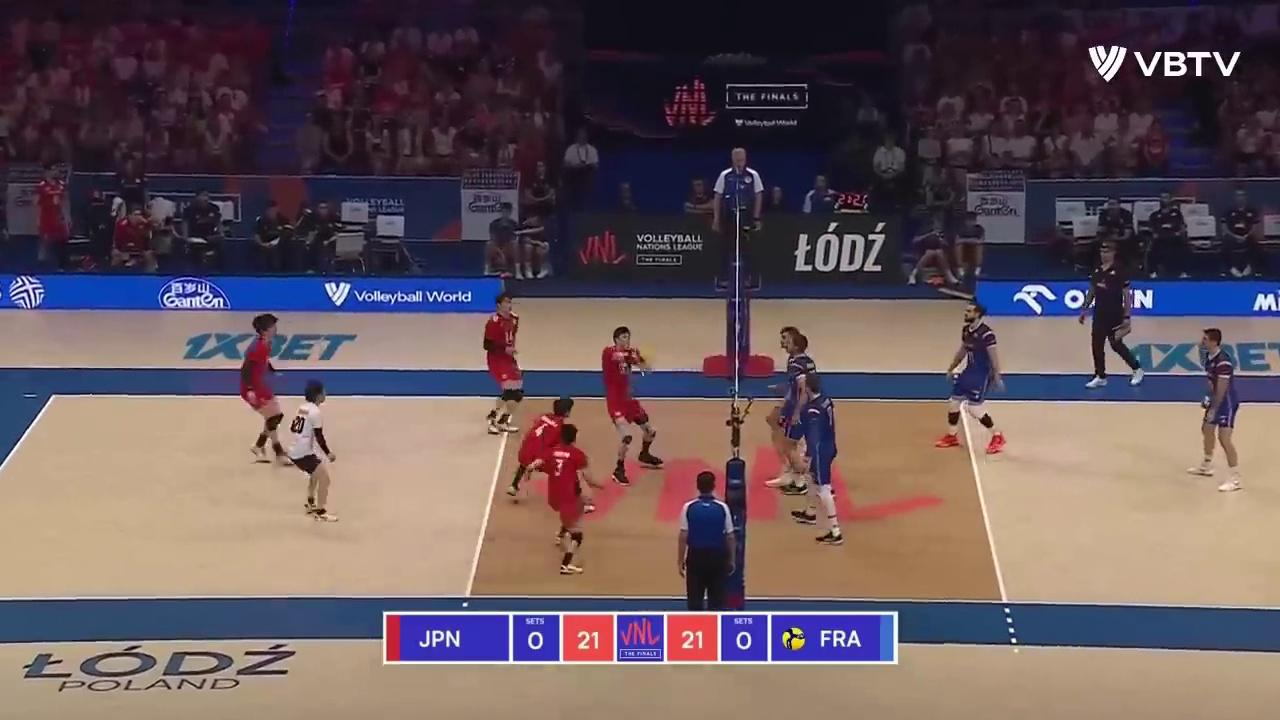ball: (637, 348, 656, 370)
